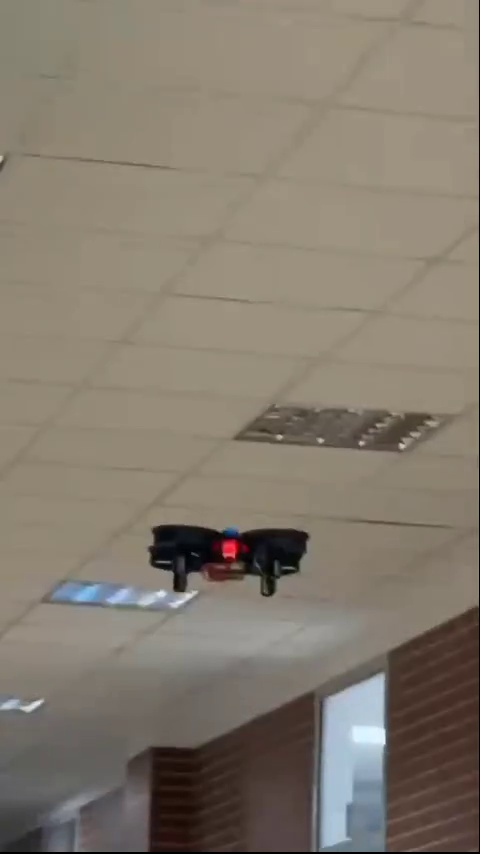drone: (141, 524, 309, 601)
